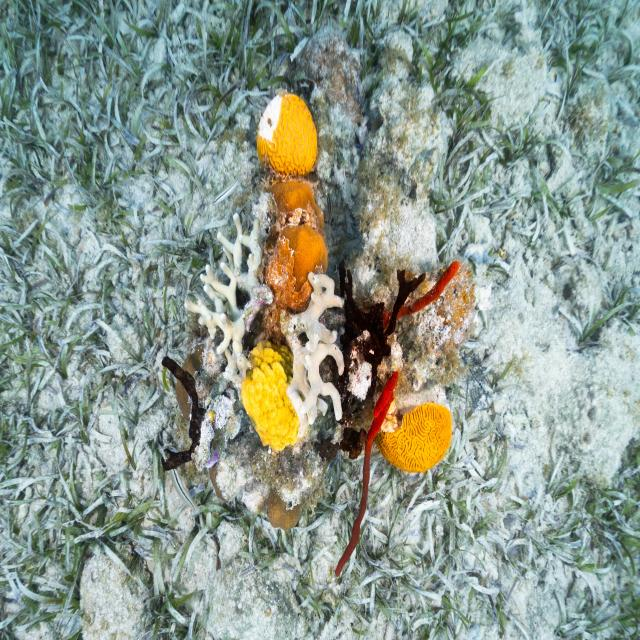Coral: (185, 213, 260, 384), (242, 339, 310, 451), (374, 402, 452, 473), (265, 224, 328, 310), (256, 92, 318, 178), (265, 180, 324, 231), (175, 343, 205, 421), (267, 488, 300, 532), (209, 460, 225, 501)
